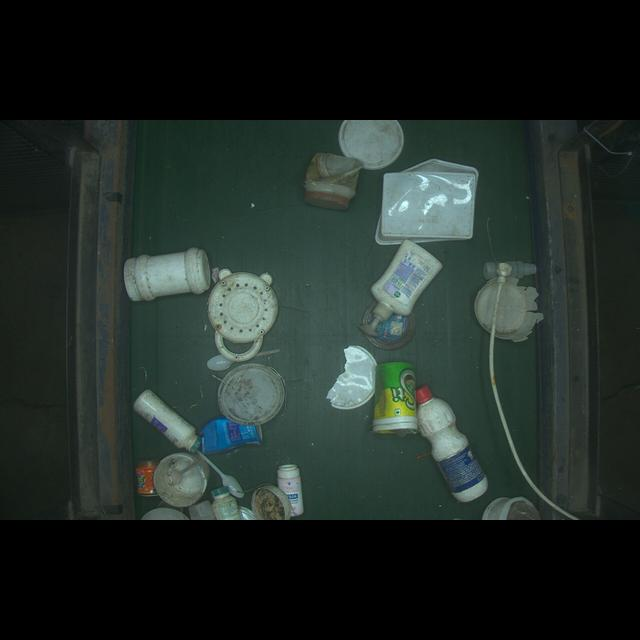mix PP: (416, 375, 494, 502), (361, 238, 451, 344), (210, 267, 280, 364), (125, 384, 201, 453), (369, 360, 416, 434)
